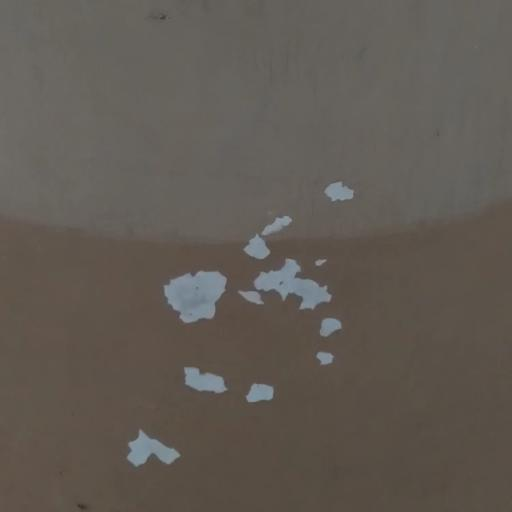peeling: (235, 253, 356, 376), (155, 248, 236, 351), (98, 408, 197, 481), (232, 201, 310, 263), (168, 357, 247, 400), (230, 369, 293, 413), (318, 172, 362, 214)
